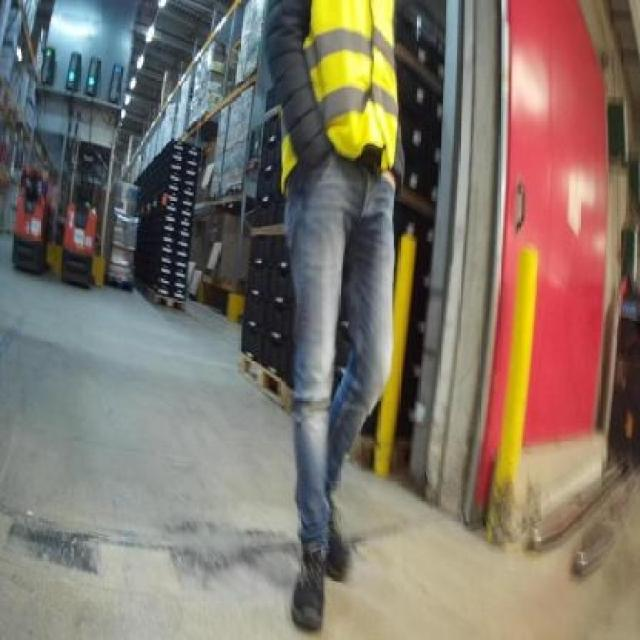floor: (0, 234, 637, 637)
pallets: (134, 138, 197, 297), (11, 166, 45, 271)
